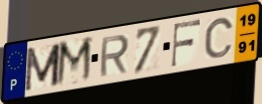7: (134, 23, 164, 76)
C: (203, 16, 236, 60)
F: (170, 18, 203, 70)
M: (54, 34, 95, 89), (22, 41, 62, 93)
R: (98, 33, 131, 79)
